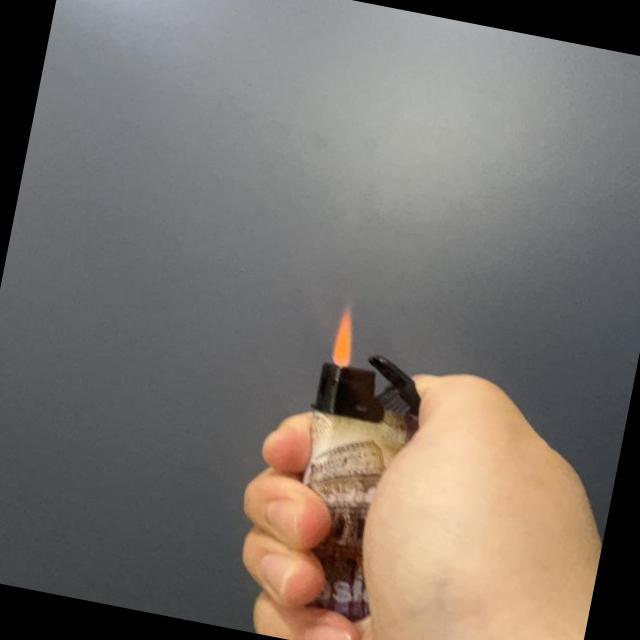Fire: (326, 300, 364, 368)
